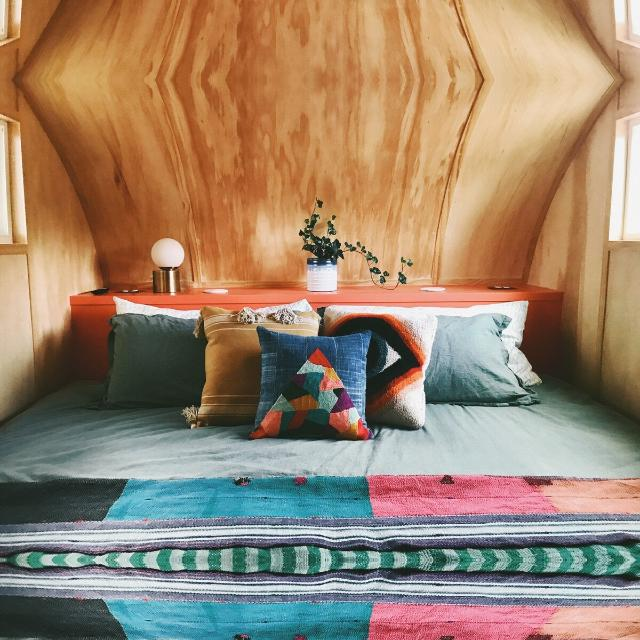pillow: (190, 306, 316, 429), (325, 305, 441, 434), (249, 326, 373, 442), (422, 316, 540, 406), (101, 314, 206, 410)
